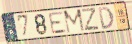7: (16, 13, 30, 38)
8: (34, 13, 49, 37)
D: (97, 6, 115, 31)
E: (48, 10, 68, 36)
M: (62, 8, 86, 35)
Z: (81, 7, 100, 32)
